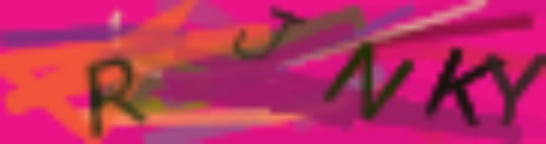J: (227, 3, 308, 61)
K: (422, 42, 491, 129)
N: (319, 37, 416, 125)
R: (82, 54, 151, 142)
Y: (487, 50, 546, 130)
